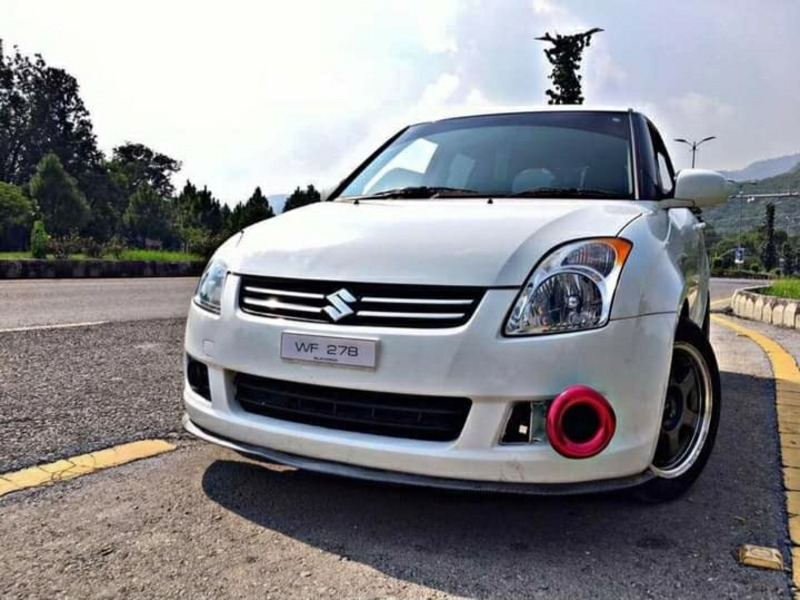License Plate: (276, 328, 383, 372)
